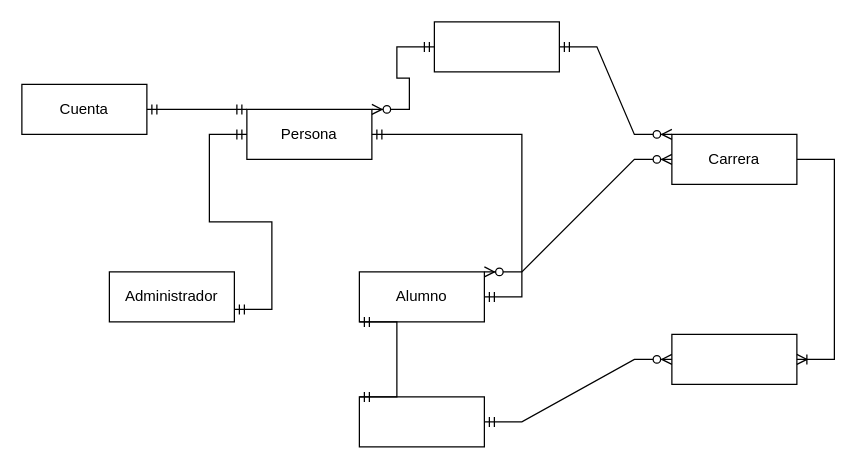
This 866x469 diagram has some shape labels left out. Here are the shapes that lost their labels. From the top down, the centre of each, then its label:
the point at 496,46: Facultad
the point at 734,358: Materia
the point at 421,421: EstadoCurricular
